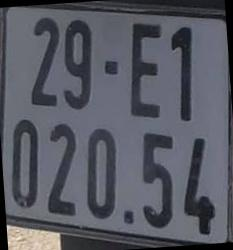-: (106, 62, 116, 73)
.: (124, 212, 133, 223)
0: (90, 128, 115, 219), (14, 120, 37, 207)
1: (172, 27, 194, 123)
2: (50, 124, 76, 214), (32, 18, 57, 106)
4: (185, 140, 215, 235)
5: (143, 135, 173, 226)
9: (63, 21, 92, 108)
E: (133, 24, 160, 116)
